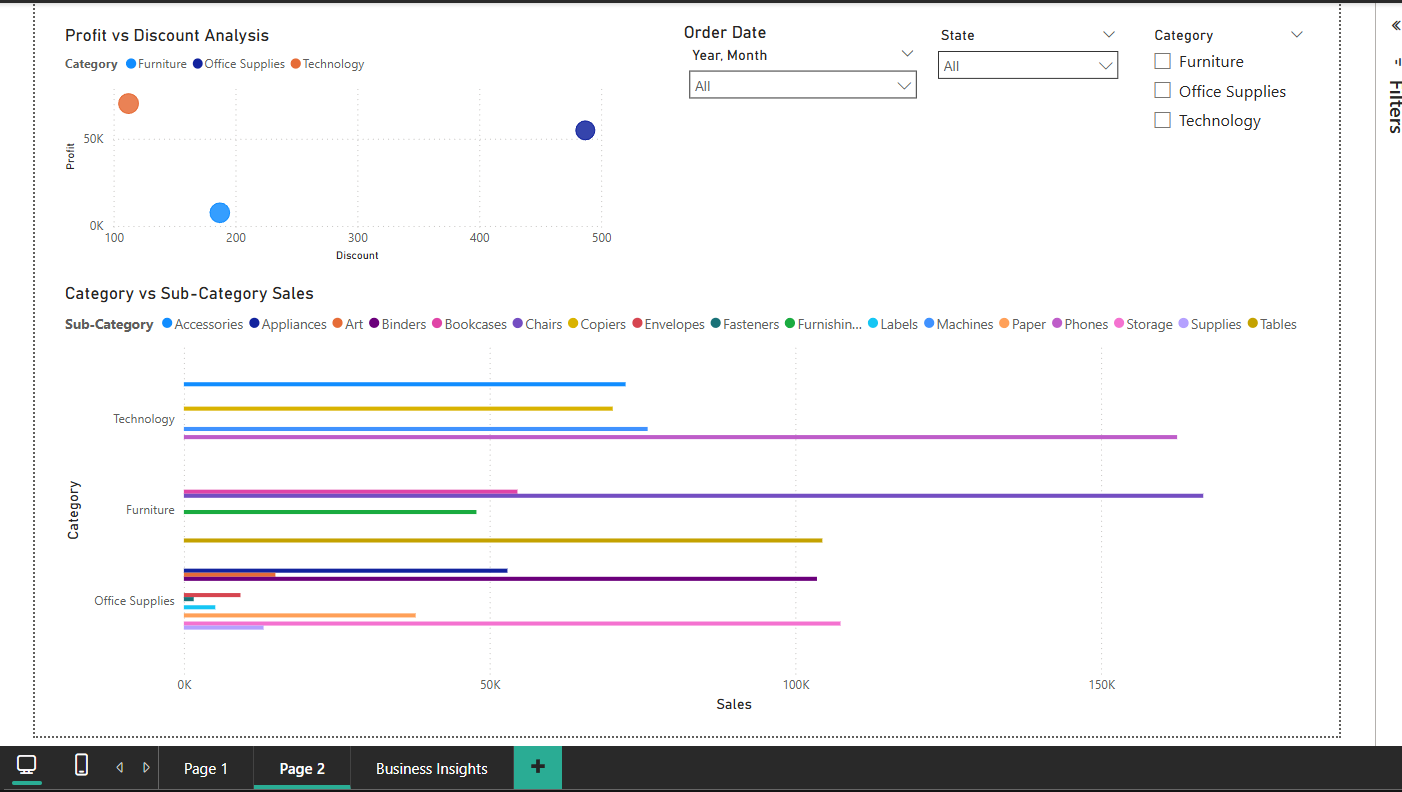

The page's visual inventory and layout, read from the dashboard file:
{"tool":"powerbi","page":{"name":"Page 2","canvas":[1280,720],"ordinal":1},"visuals":[{"type":"clusteredBarChart","title":"Category vs Sub-Category Sales","fields":{"Category":["Sample - Superstore.Category"],"Y":["Sum(Sample - Superstore.Sales)"],"Series":["Sample - Superstore.Sub-Category"]},"box":[23.9,274.6,1221.1,426.8],"z":0},{"type":"scatterChart","title":"Profit vs Discount Analysis","fields":{"X":["Sum(Sample - Superstore.Discount)"],"Y":["Sum(Sample - Superstore.Profit)"],"Size":["Sum(Sample - Superstore.Sales)"],"Series":["Sample - Superstore.Category"]},"box":[23.9,21.1,546.5,238],"z":1000},{"type":"slicer","fields":{"Values":["Sample - Superstore.State"]},"box":[876.1,18.3,197.2,169],"z":2000},{"type":"slicer","title":"Order Date","fields":{"Values":["Sample - Superstore.Order Date.Variation.Date Hierarchy.Year","Sample - Superstore.Order Date.Variation.Date Hierarchy.Month"]},"box":[632.4,18.3,243.7,169],"z":3000},{"type":"slicer","fields":{"Values":["Sample - Superstore.Category"]},"box":[1085.9,18.3,171.8,149.3],"z":4000}]}

Visuals, with their boxes on the page's 1280x720 design canvas (x1, y1, x2, y2). These are canvas units, not pixel positions in the 1402x792 screenshot, which may show the page scaled, cropped or inside an application window:
"Category vs Sub-Category Sales" clusteredBarChart: detection(24, 275, 1245, 701)
"Profit vs Discount Analysis" scatterChart: detection(24, 21, 570, 259)
slicer - Sample - Superstore.State: detection(876, 18, 1073, 187)
"Order Date" slicer: detection(632, 18, 876, 187)
slicer - Sample - Superstore.Category: detection(1086, 18, 1258, 168)
